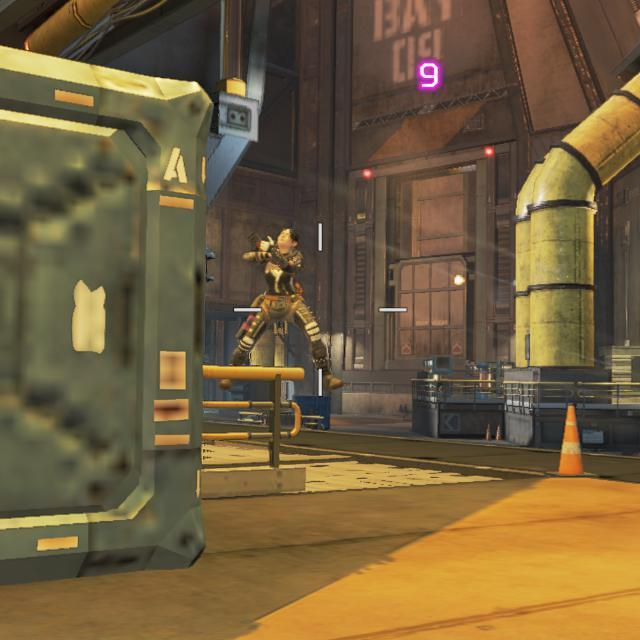avatar: (222, 228, 343, 395)
